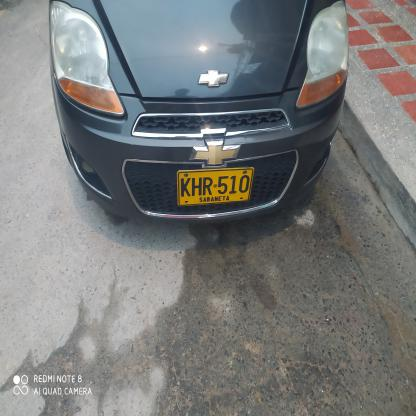placa: (172, 166, 257, 210)
